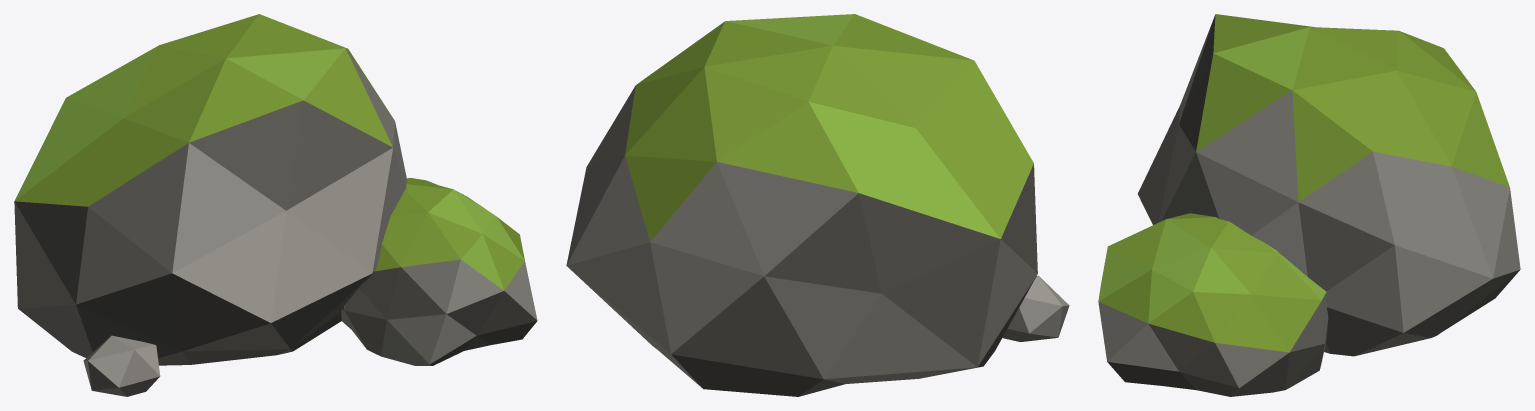
File: rock_2.glb
3 renders of one model, left to right at view 1: azimuth 30°, elevation 25°; view 2: azimuth 150°, elevation 25°; view 3: azimuth 270°, elevation 25°, orthographic. The views are drawn at different scales.
Visible parts, largest first — view 1: rock_2; view 2: rock_2; view 3: rock_2.
Boxes of the visible parts, <box> form: rock_2: <box>14,14,537,396</box>; rock_2: <box>566,14,1069,396</box>; rock_2: <box>1098,14,1520,396</box>.
Bounding box in the file's own units: 1.21 × 0.703 × 1.04.
